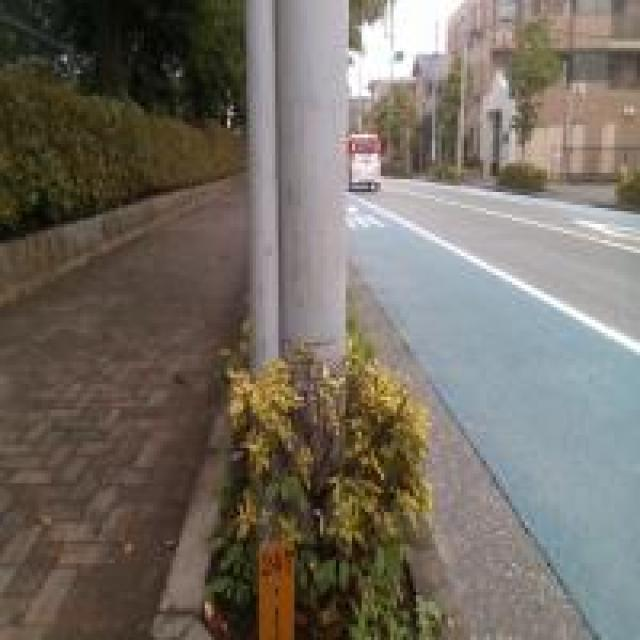Automobile: (348, 133, 380, 191)
Obstacle: (206, 322, 444, 639), (0, 68, 239, 233), (0, 176, 238, 307), (276, 0, 347, 349), (246, 0, 279, 364), (259, 539, 293, 639)
Road: (353, 206, 639, 639), (351, 177, 639, 344)
Sidewalk: (0, 183, 245, 639)
